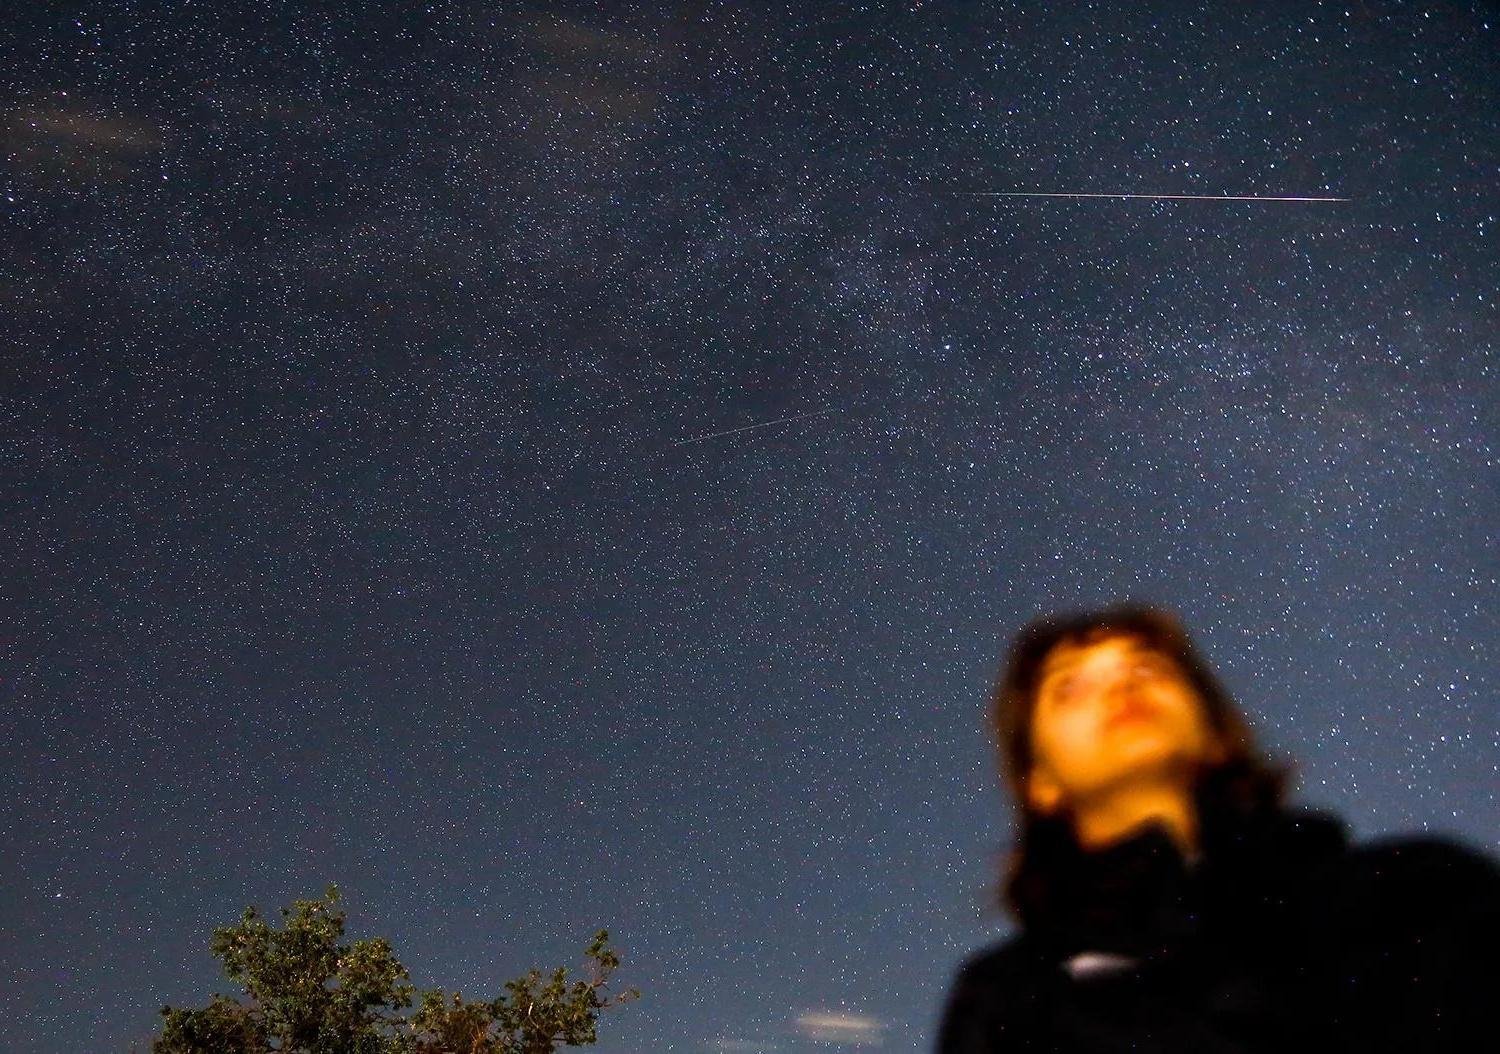meteorite: (882, 167, 1361, 222), (667, 396, 838, 476)
